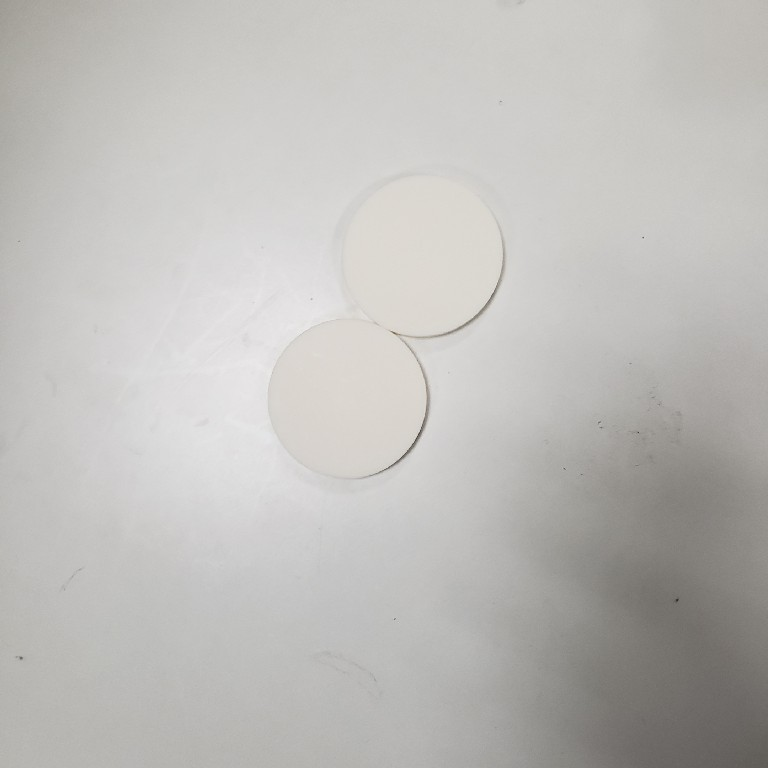ceramics: (261, 313, 433, 485), (340, 171, 507, 346)
